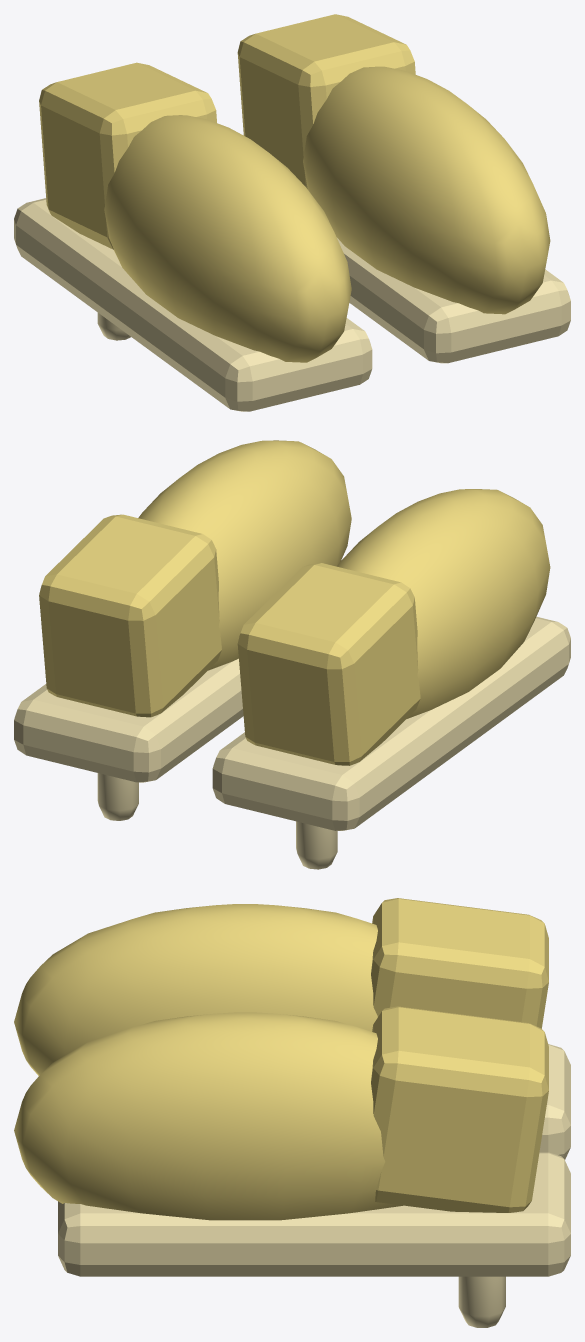
File: VM-CAL-EXT188.glb
3 views of the same model, one above another, from view 1: azimuth 30°, elevation 25°; view 2: azimuth 150°, elevation 25°; view 3: azimuth 270°, elevation 25° (orthographic). The views are drawn at different scales.
Visible parts, largest first — view 1: Zapatos Pampi; view 2: Zapatos Pampi; view 3: Zapatos Pampi.
Part boxes in pixels (bbox=[...]): Zapatos Pampi: bbox=[14, 14, 570, 411]; Zapatos Pampi: bbox=[14, 440, 570, 869]; Zapatos Pampi: bbox=[14, 898, 570, 1327].
Size of the model in its own units: 0.2183 by 0.1673 by 0.2738.
